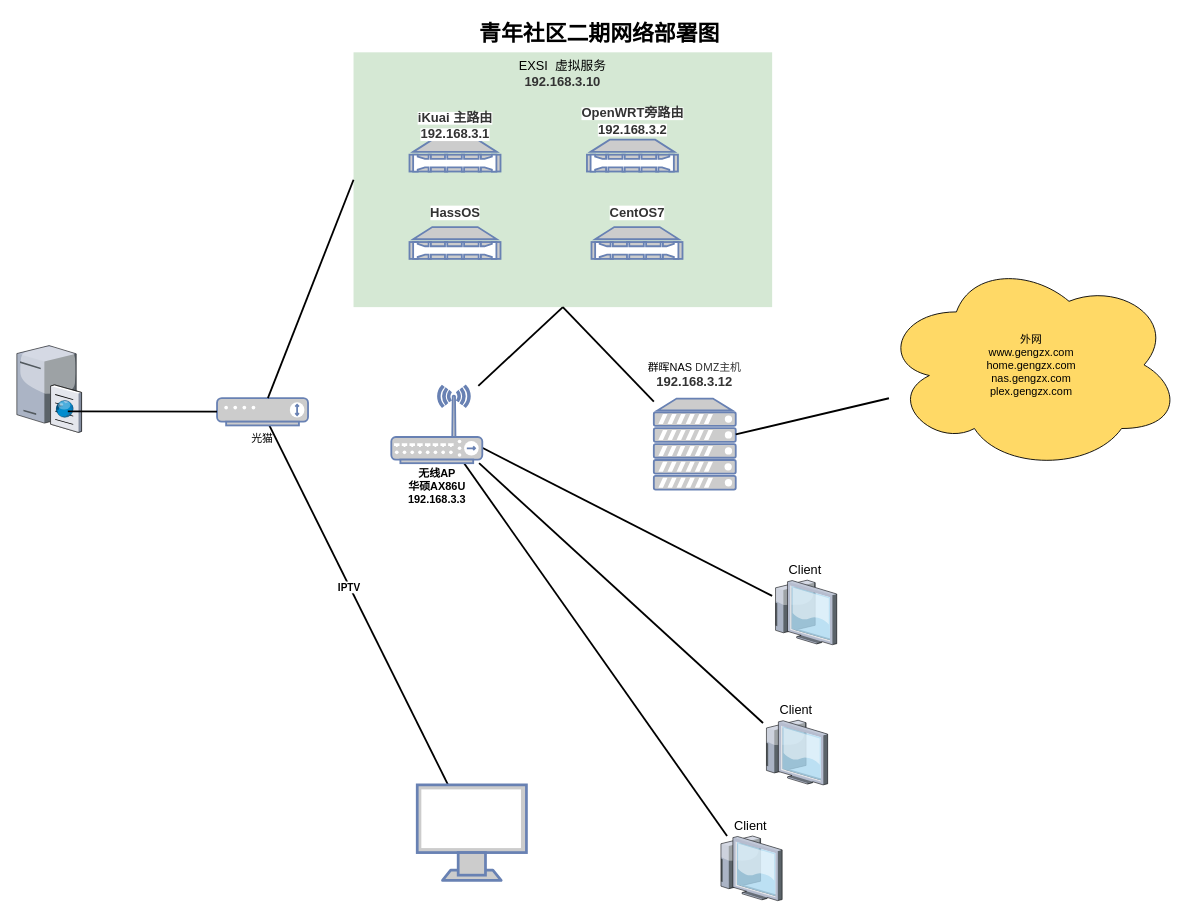
Some shapes in this 1198 by 916 pixel diagram are drawn without their labels. The shapes that lost their labels are listed below. From the top down, each one's centre as x and y in pixels, then its label:
At point (48, 387): "供应商 联通".
At point (471, 832): "电视".
